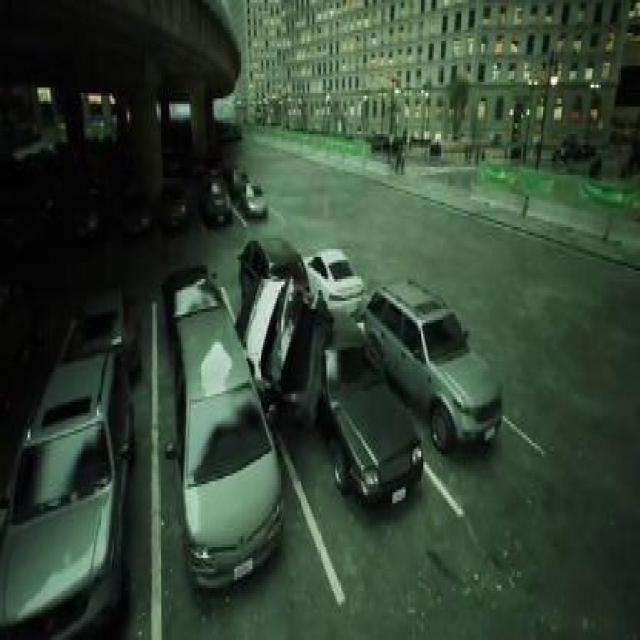accident: (229, 265, 431, 525)
